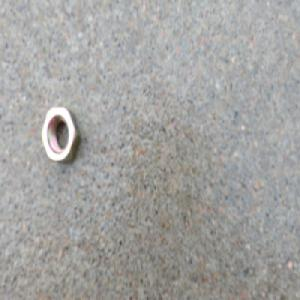Nut: (40, 103, 80, 164)
